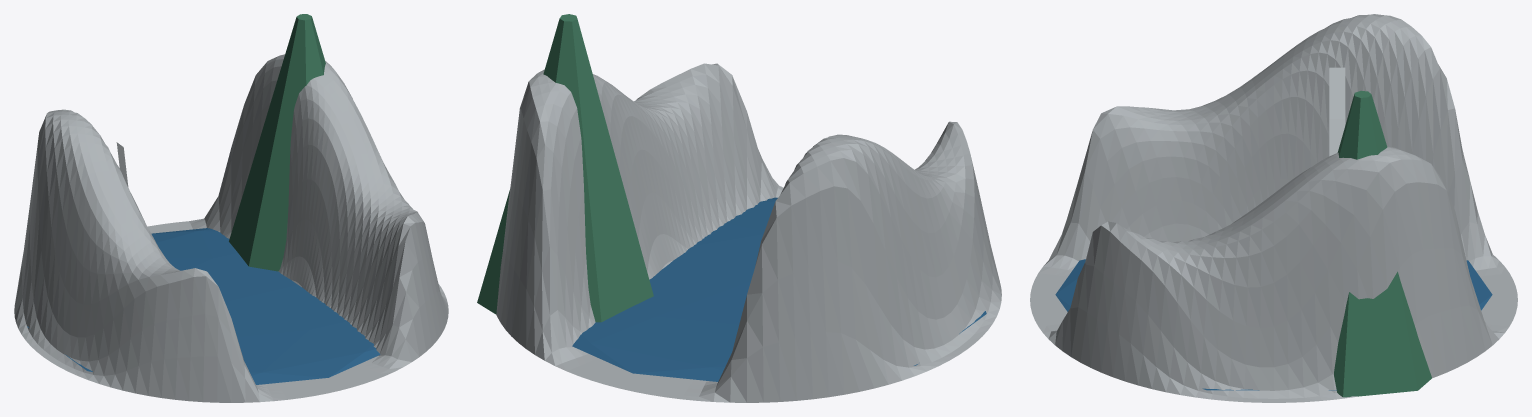
File: FEATURE_PIOPIOTAHI.fbx
3 views of the same model, side by side, from view 1: azimuth 30°, elevation 25°; view 2: azimuth 150°, elevation 25°; view 3: azimuth 270°, elevation 25° (orthographic). The views are drawn at different scales.
Visible parts, largest first — view 1: Fjord_walls, Fjord, Eroded_spire.001; view 2: Fjord_walls, Fjord, Eroded_spire.001; view 3: Fjord_walls, Eroded_spire.001, Waterfall, Fjord.
Part boxes in pixels (x1,y1,x2,y2): Fjord_walls: (14,54,448,402); Fjord: (27,228,380,384); Eroded_spire.001: (229,14,325,271); Fjord_walls: (496,63,1001,402); Fjord: (572,197,986,381); Eroded_spire.001: (477,14,653,322); Fjord_walls: (1030,14,1517,402); Eroded_spire.001: (1334,90,1431,397); Waterfall: (1329,67,1345,156); Fjord: (1055,259,1492,390).
Bounding box in the file's own units: 154 × 93.7 × 154.
